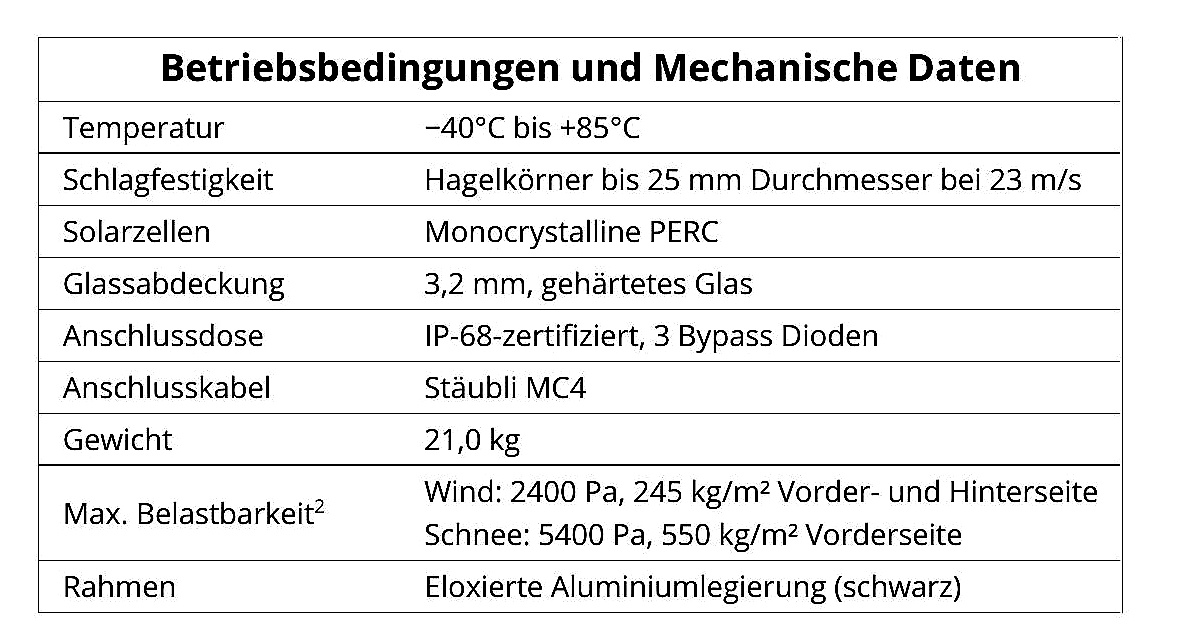table: (26, 29, 1133, 621)
table column: (413, 38, 1124, 614), (38, 41, 415, 610)
table name: (36, 38, 1123, 103)
table row: (37, 465, 1123, 562), (38, 39, 1121, 101), (36, 203, 1121, 261), (35, 310, 1123, 362), (36, 414, 1124, 466), (35, 362, 1125, 413), (38, 101, 1123, 152), (38, 153, 1123, 203), (37, 563, 1127, 612), (36, 262, 1121, 310)
table row header: (37, 37, 416, 612)
table spanning cell: (36, 37, 1123, 102)
